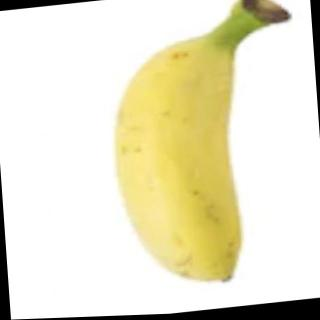banana: (103, 32, 256, 298)
